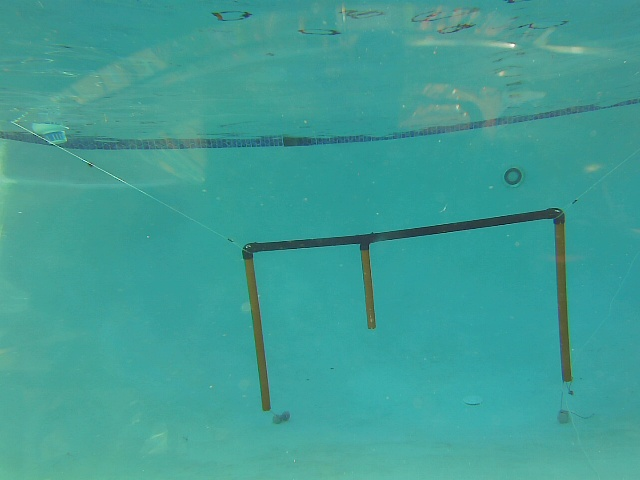Gate: (239, 253, 271, 412), (552, 216, 574, 380), (359, 244, 376, 337)
